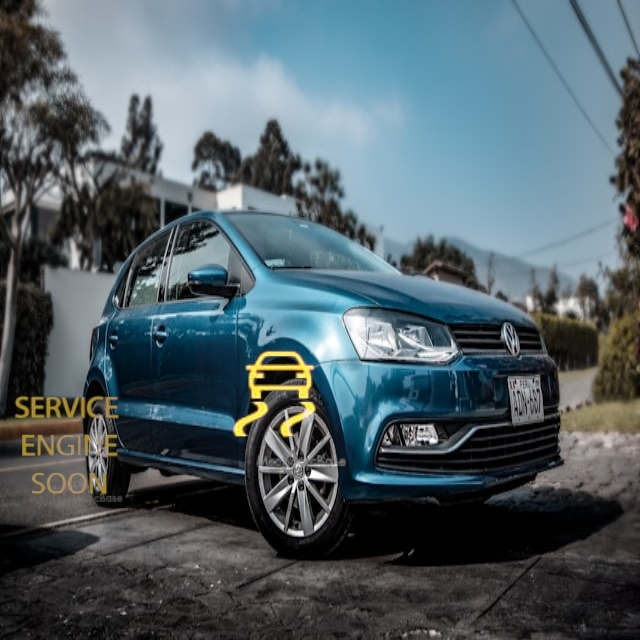symbol: (195, 317, 352, 474), (5, 386, 127, 508)
